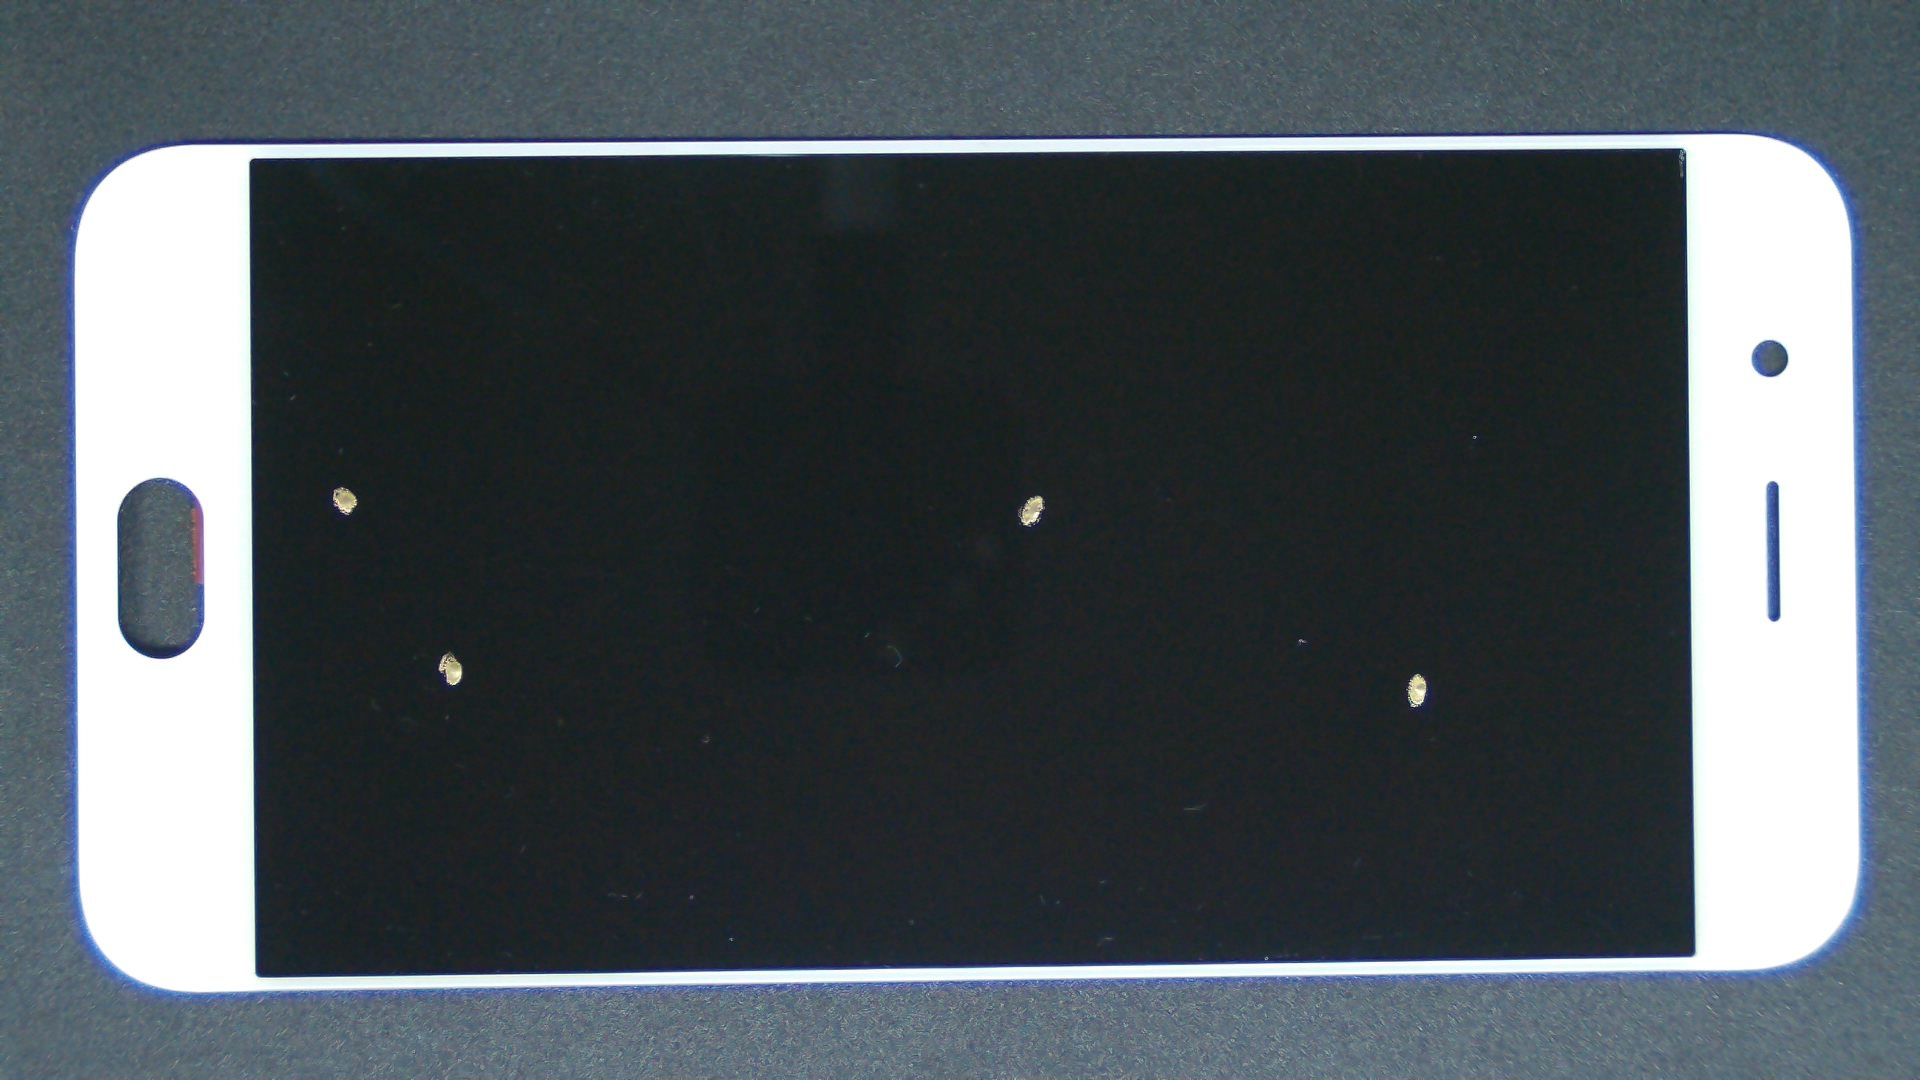oil: (709, 335, 1920, 1009), (520, 247, 1555, 742), (225, 324, 674, 976), (170, 243, 508, 729)
